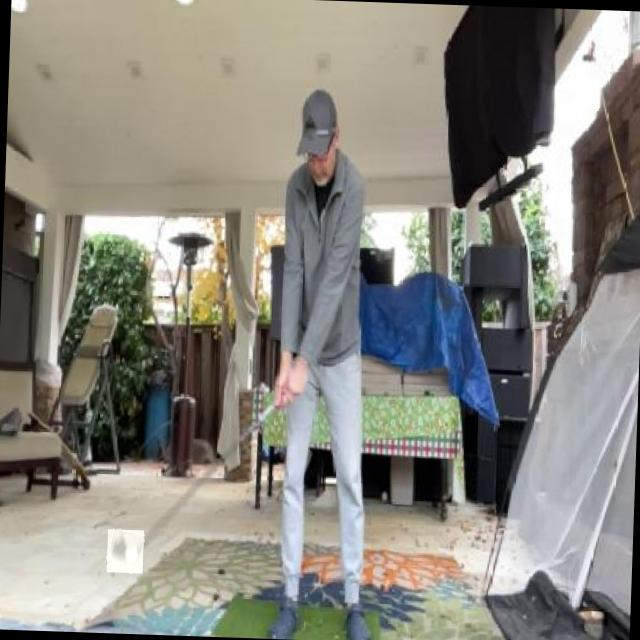club head: (106, 529, 144, 573)
